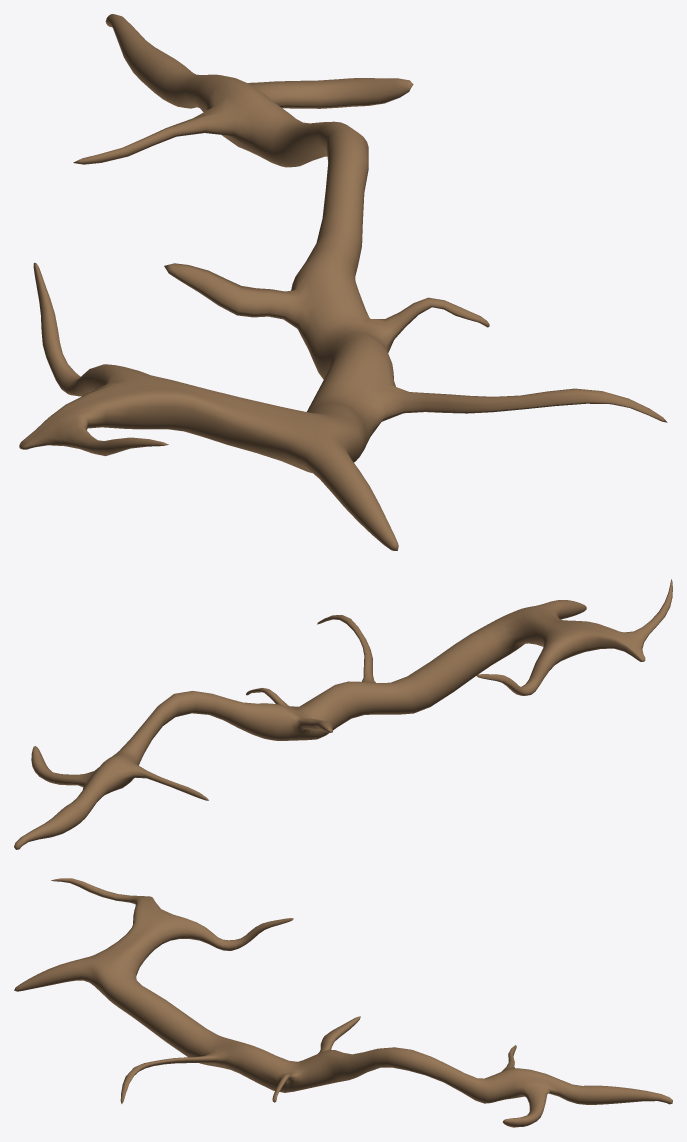
File: rama2.glb
The picture shows the model from 3 angles, top to bottom: view 1: azimuth 30°, elevation 25°; view 2: azimuth 150°, elevation 25°; view 3: azimuth 270°, elevation 25°; orthographic projection. The views are drawn at different scales.
Parts seen in each view (by area): view 1: Cylinder; view 2: Cylinder; view 3: Cylinder.
Part boxes in pixels (bbox=[...]): Cylinder: bbox=[19, 14, 667, 550]; Cylinder: bbox=[14, 579, 672, 849]; Cylinder: bbox=[14, 878, 672, 1127].
Size of the model in its own units: 33.39 by 9.33 by 51.02.
